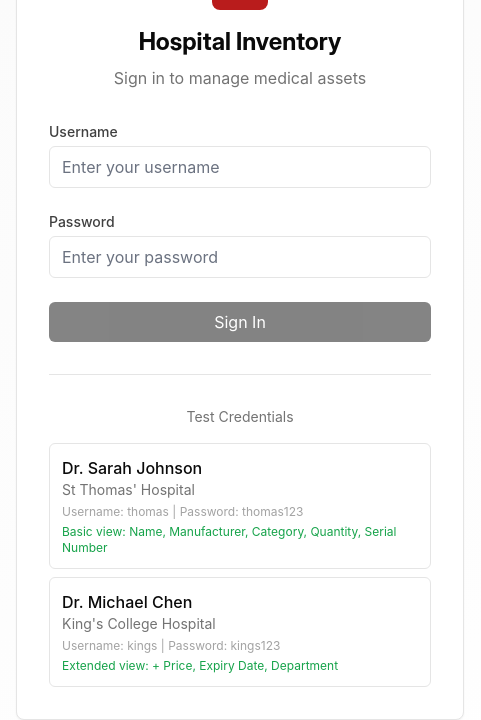
Test: LoginView Component › Test User Selection › should populate form when Kings College test user is clicked
(page scrolled)
Step 1. Click the button that starts with "Dr. Michael Chen" → point(127, 602), box [49,577,431,687]
(page scrolled)
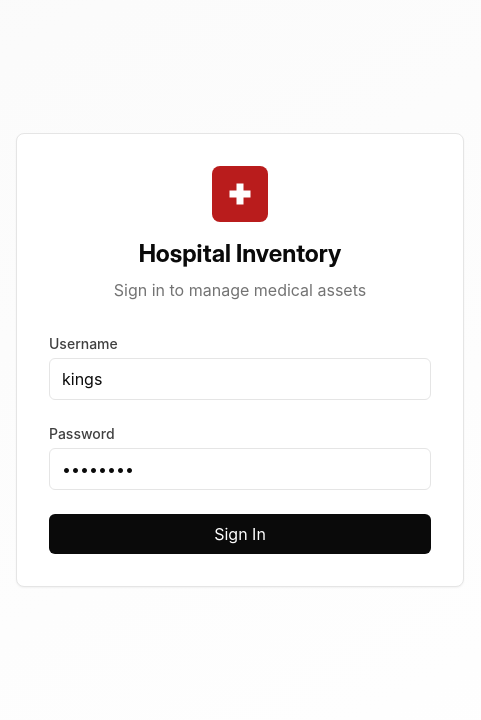
Expected: the field with test id "username" holds "kings", [49,358,431,400]
Expected: the password field with test id "password" holds "kings123", [49,448,431,490]
